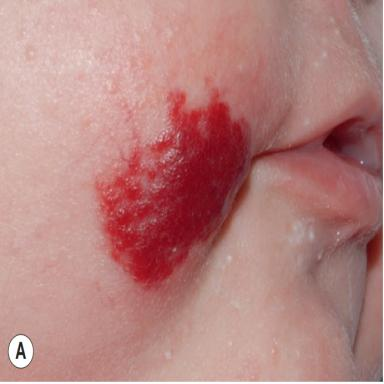Hemangiome: (97, 93, 249, 283)
